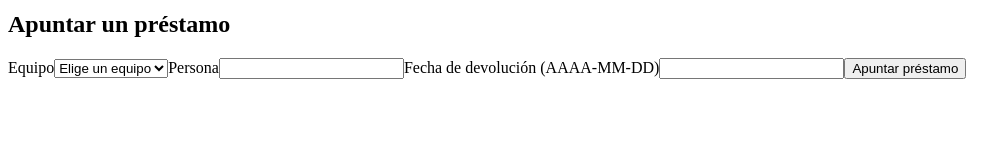
Test: pantalla Apuntar un préstamo › enseña tal cual el mensaje de la API con un 400: La fecha de devolución no es válida
The image size is (983, 160).
Select "Portátil 07" in the dropdown labelled "Equipo" at (111, 68), box top-left (54, 59), bottom-right (168, 78)
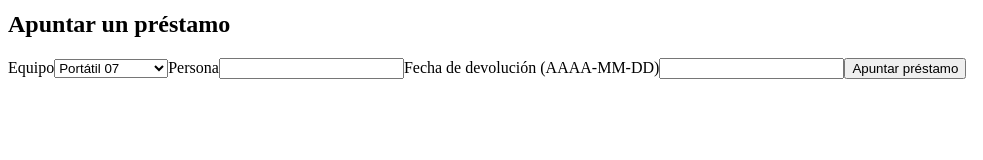
Type "Ana Pérez" into the field labelled "Persona" at (311, 68), box top-left (219, 58), bottom-right (404, 79)
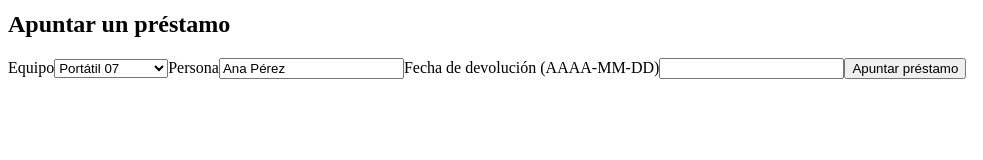
Type "2026-12-15" into the field labelled "Fecha de devolución (AAAA-MM-DD)" at (752, 68), box top-left (659, 58), bottom-right (844, 79)
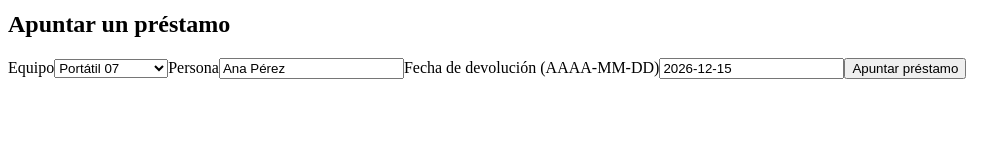
Click the button "Apuntar préstamo" at (905, 68), box top-left (844, 58), bottom-right (966, 79)
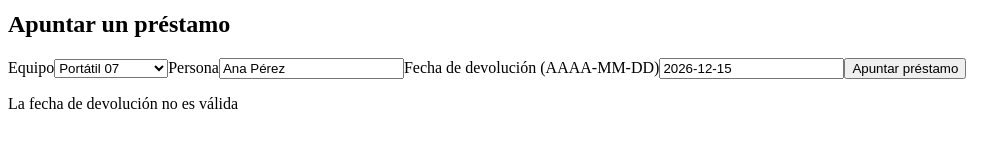
Check: the message reads "La fecha de devolución no es válida", box top-left (8, 95), bottom-right (238, 112)
